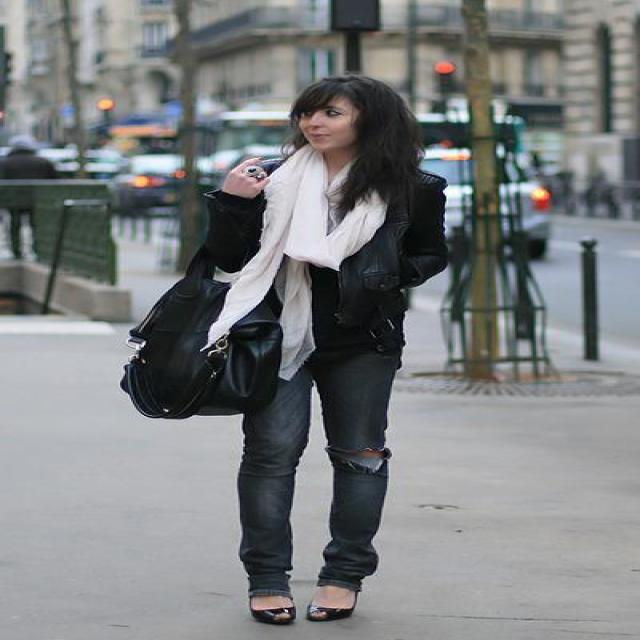bag: (120, 269, 286, 418)
jacket: (187, 175, 459, 370)
pants: (219, 358, 397, 600)
shoe: (251, 604, 354, 625)
